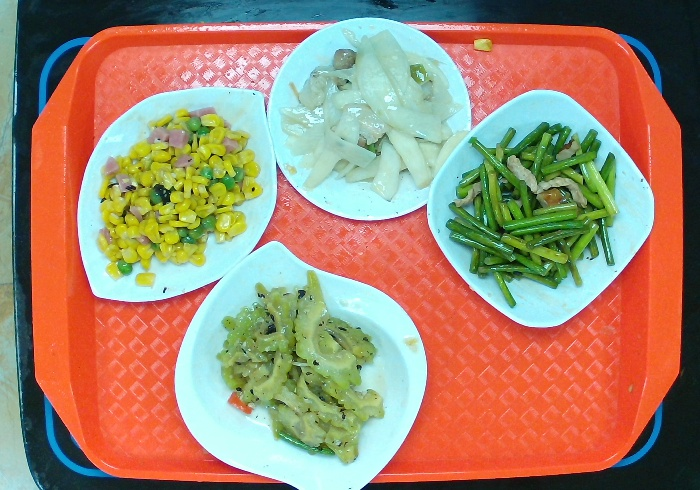RJxy-Da_Du_Pan: (76, 79, 284, 311)
RJxy-Shuang_Jiao_Pan: (161, 238, 430, 485)
RJxy-Si_Fang_Wan: (422, 86, 658, 334)
RJxy-Xiao_Yuan_Die: (262, 13, 475, 231)
